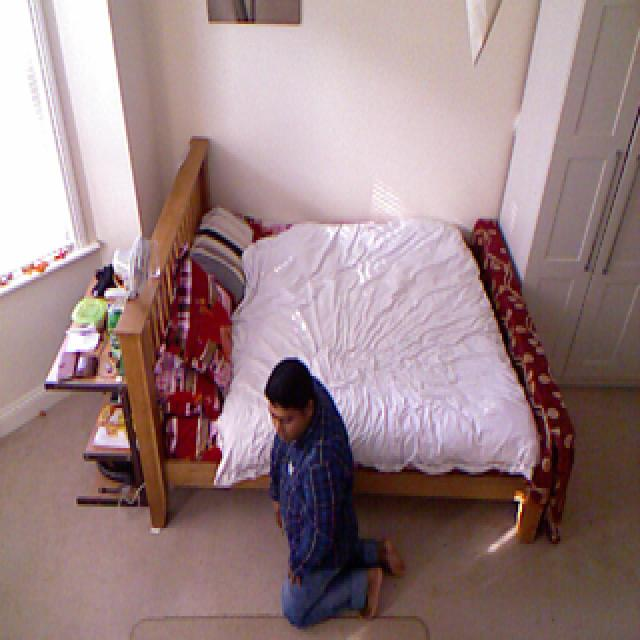crawling: (261, 355, 407, 629)
